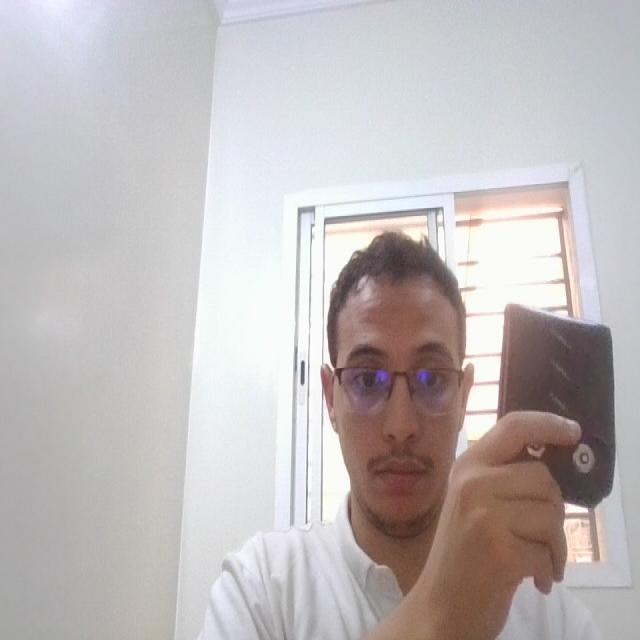wallet: (498, 292, 624, 518)
